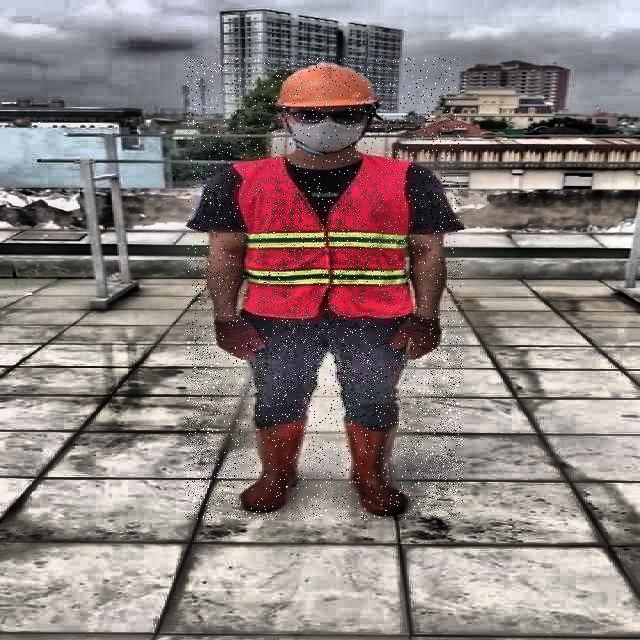safety_helmet: (278, 61, 382, 110)
safety_jacket: (238, 154, 412, 319)
